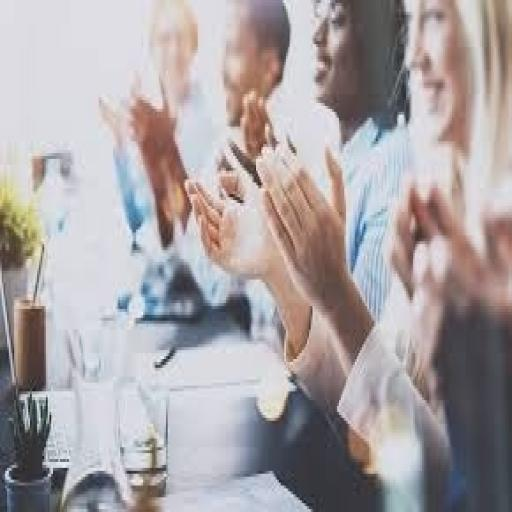clapping: (202, 14, 512, 481), (125, 10, 326, 300)
